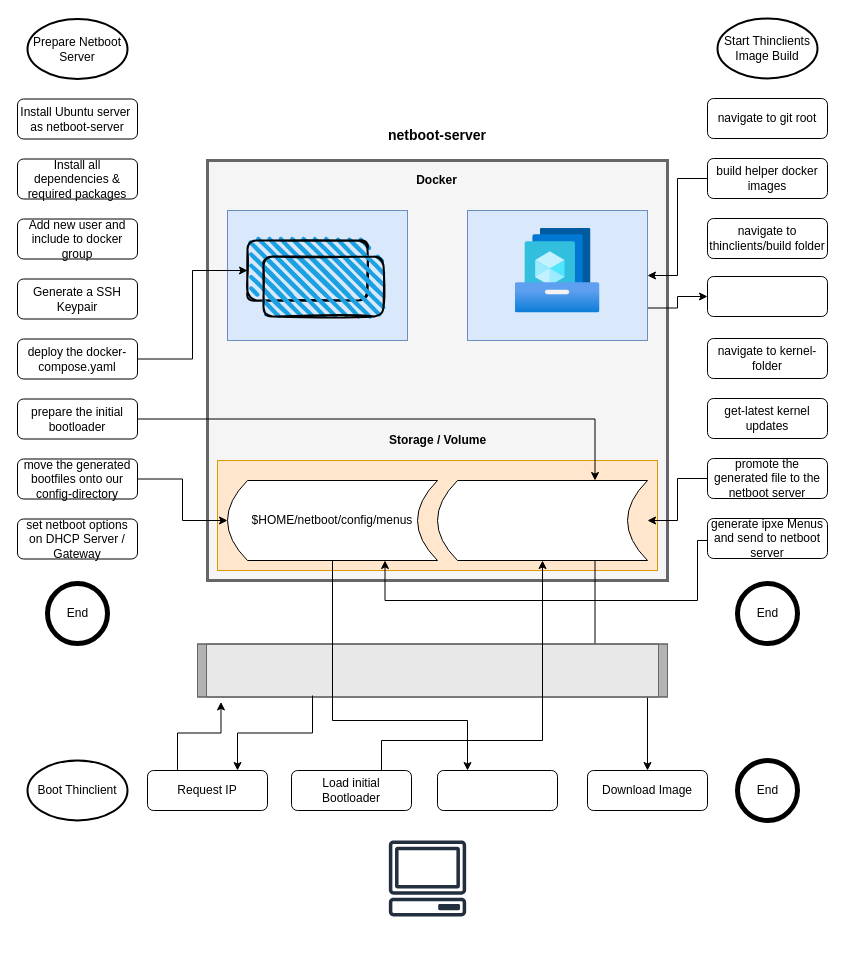
Some shapes in this 845 by 957 pixel diagram are drawn without their labels. Here are the shapes that lost their labels. From the top down, the centre of each, then its label:
At [323,286]: "CONTAINER".
At [557,270]: "Images".
At [767,296]: "execute build-script".
At [542,520]: "$HOME/netboot/assets/".
At [432,670]: "opnsense Gateway (DHCP Server)".
At [497,790]: "Show IPXE Menu".
At [427,878]: "Thinclient".
